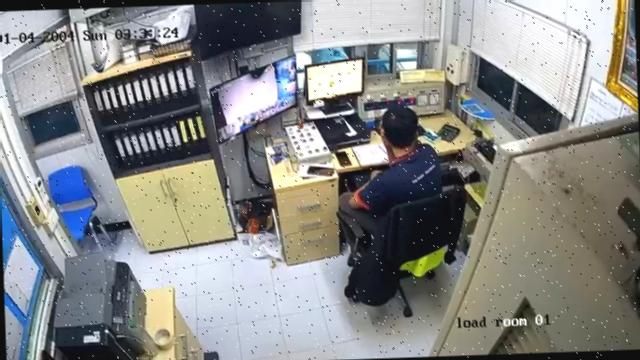Head: (378, 108, 426, 152)
People: (339, 107, 442, 238)
Phone: (333, 149, 352, 166), (306, 166, 336, 176)
